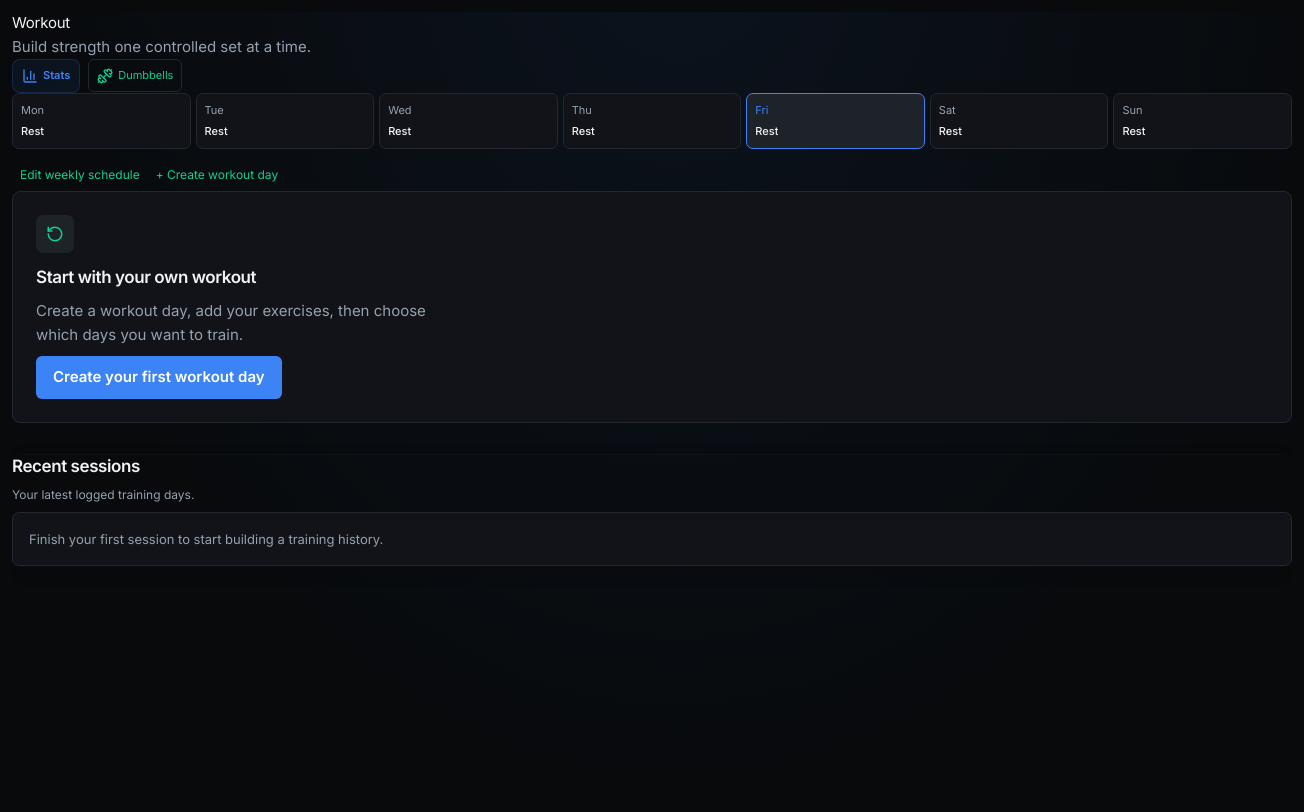
Test: WorkoutPage › starts with no preset workouts and lets the user create a named workout day
Expected: the heading "Start with your own workout" is shown, [36,264,256,290]
Click the button "Create your first workout day" at (159, 378), box [36,356,282,399]
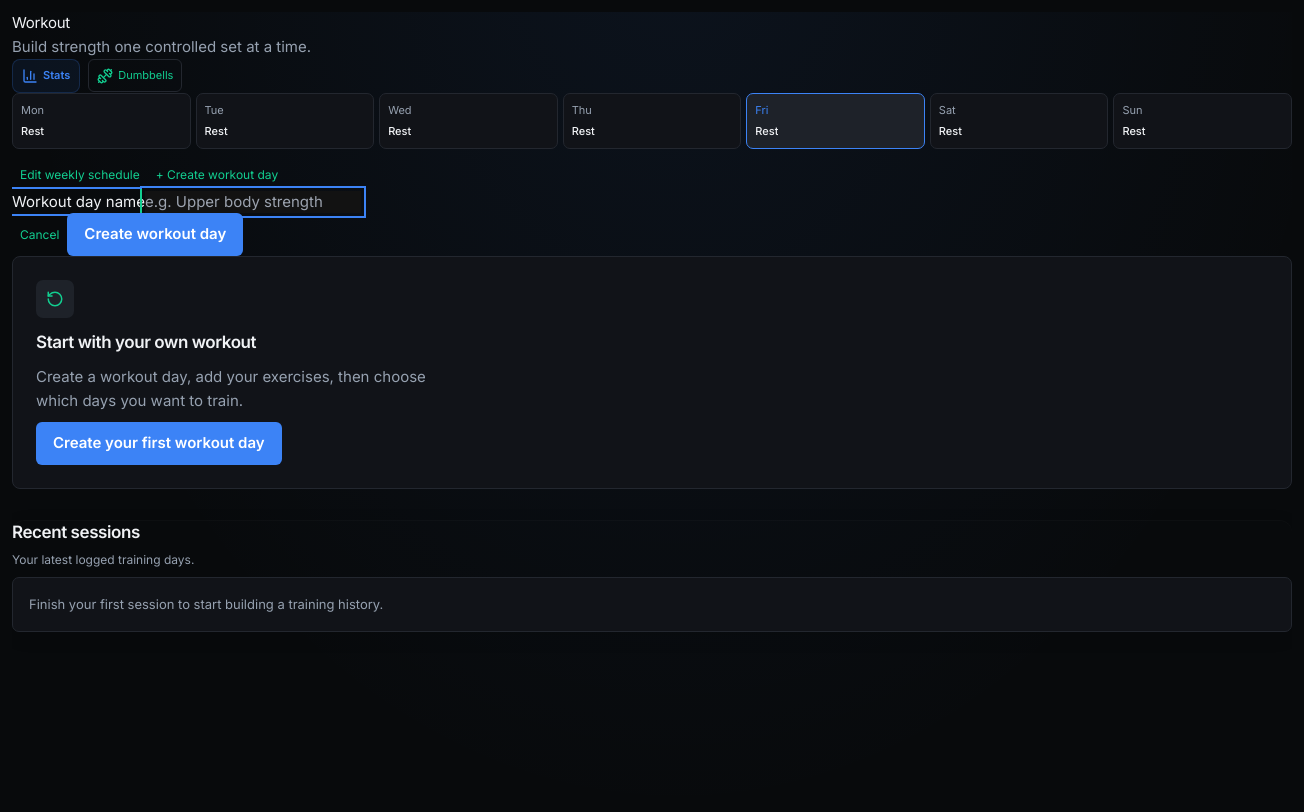
Type "Upper strength" into the field with placeholder "e.g. Upper body strength" at (253, 202), box [145,190,361,213]
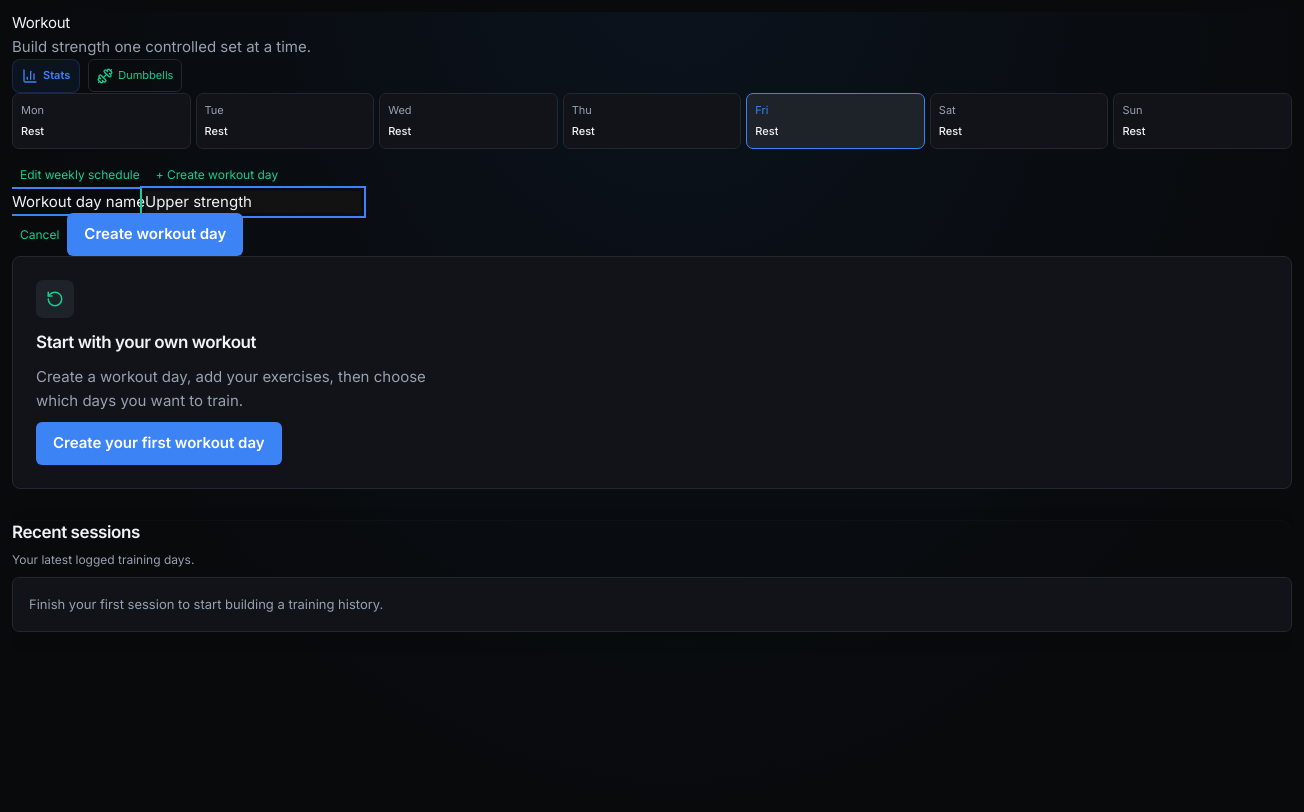
Click the button "Create workout day" at (155, 234), box [67,213,243,256]
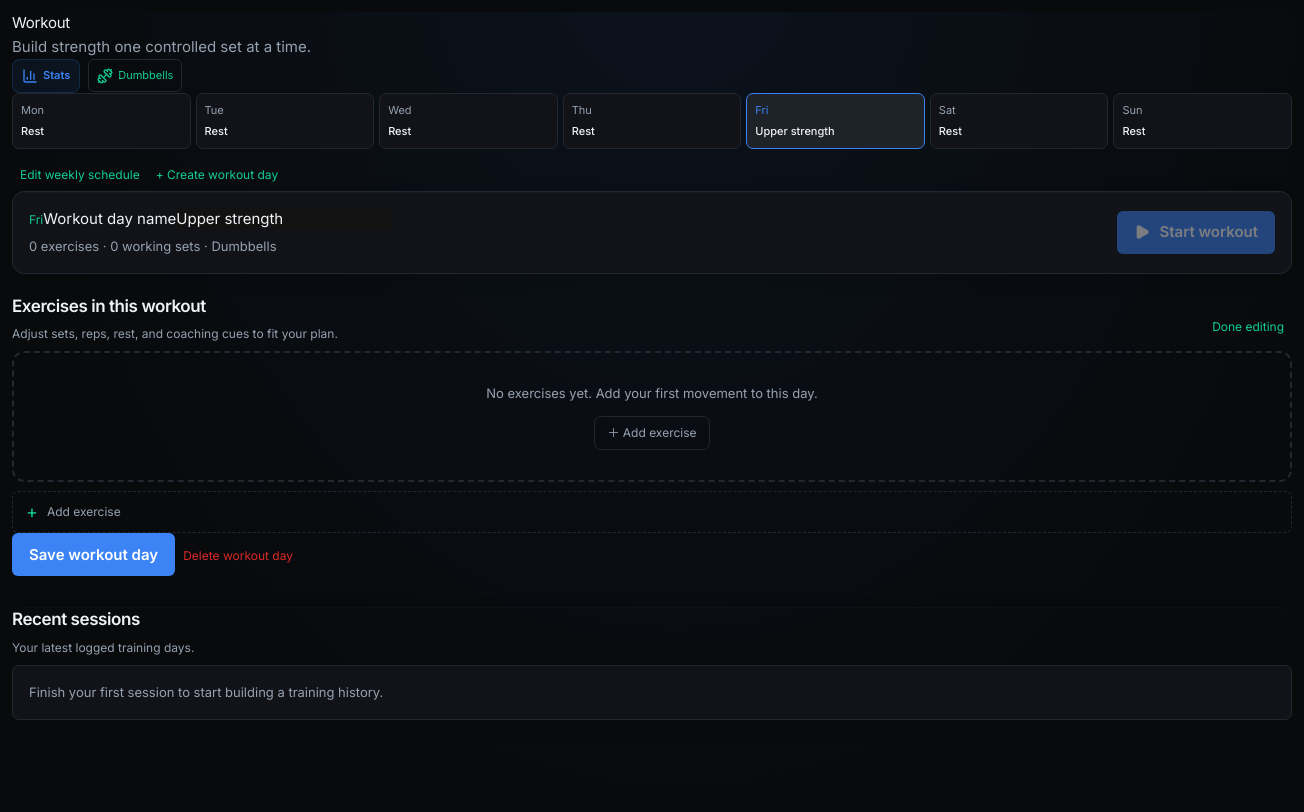
Expected: the field labelled "Workout day name" holds "Upper strength", [176,208,392,230]
